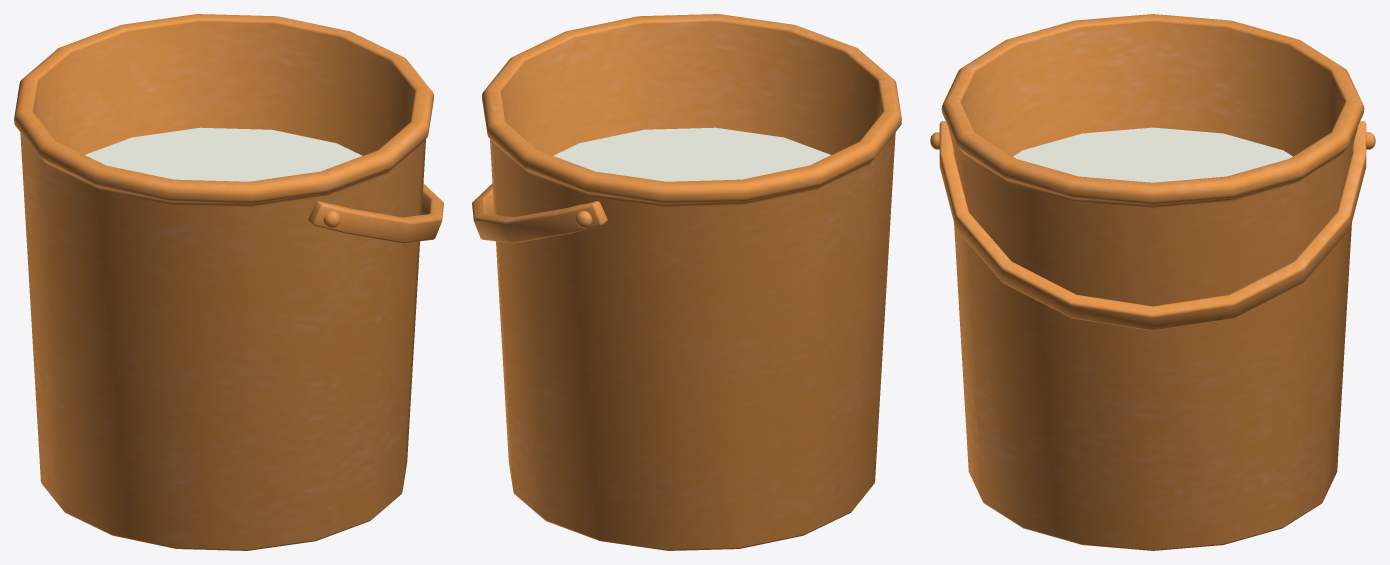
Rendered from icebucket.fbx.
3 views of the same model, side by side, from view 1: azimuth 30°, elevation 25°; view 2: azimuth 150°, elevation 25°; view 3: azimuth 270°, elevation 25° (orthographic).
Visible parts, largest first — view 1: icebucket, icebucket_fill; view 2: icebucket, icebucket_fill; view 3: icebucket, icebucket_fill.
Part boxes in pixels (<box>): icebucket: <box>14,14,443,550</box>; icebucket_fill: <box>85,127,362,181</box>; icebucket: <box>472,14,901,550</box>; icebucket_fill: <box>553,127,830,181</box>; icebucket: <box>930,14,1375,550</box>; icebucket_fill: <box>1013,127,1292,182</box>.
Bounding box in the file's own units: 0.3143 × 0.3 × 0.3241.
